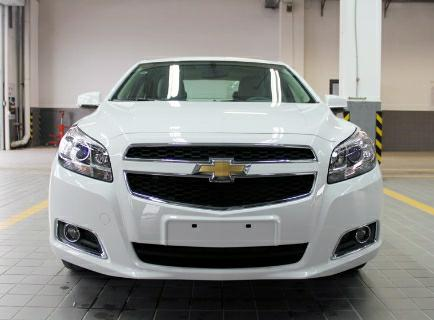car: (42, 51, 390, 285)
